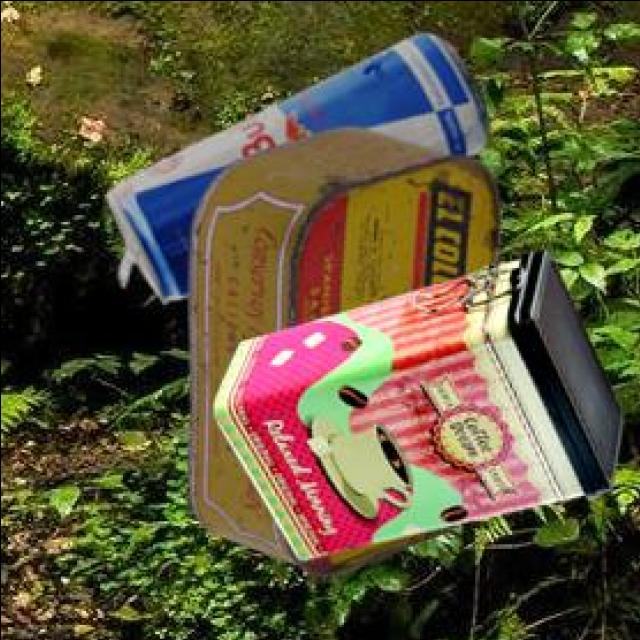logam: (183, 123, 496, 572), (211, 245, 618, 556), (102, 29, 485, 298)
